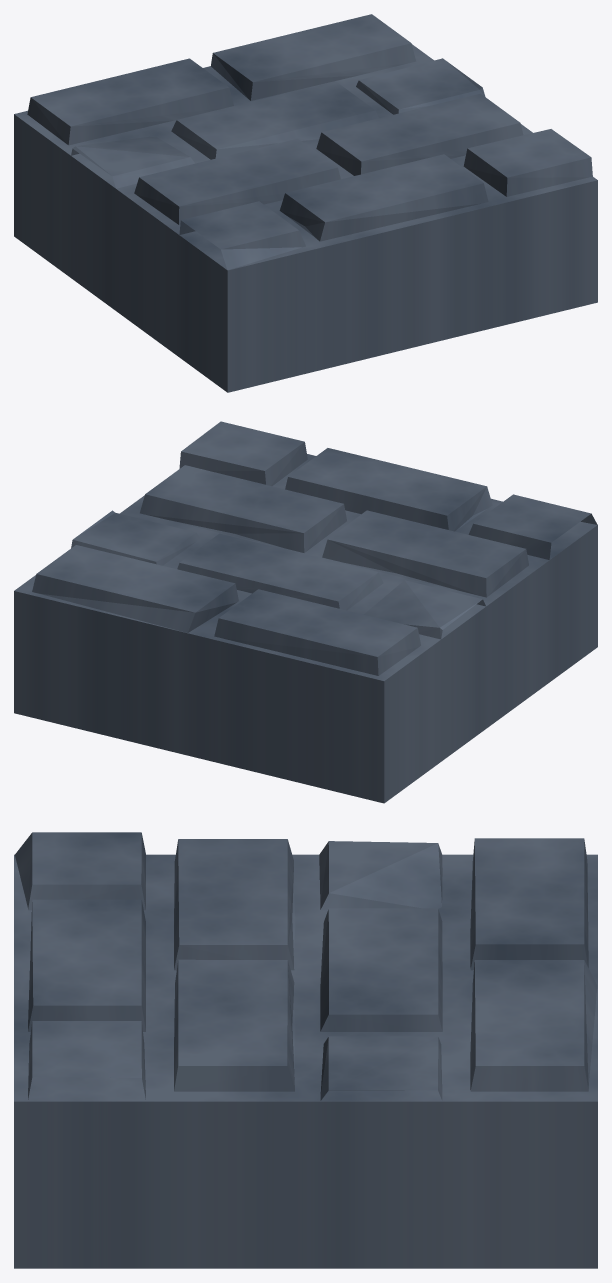
File: BricksTile3.glb
The picture shows the model from 3 angles, top to bottom: view 1: azimuth 30°, elevation 25°; view 2: azimuth 150°, elevation 25°; view 3: azimuth 270°, elevation 25°; orthographic projection. The views are drawn at different scales.
Parts seen in each view (by area): view 1: BricksTile3; view 2: BricksTile3; view 3: BricksTile3.
Boxes of the visible parts, left/top/right/bottom form: BricksTile3: left=14, top=14, right=597, bottom=392; BricksTile3: left=14, top=421, right=597, bottom=803; BricksTile3: left=14, top=832, right=597, bottom=1268.
Bounding box in the file's own units: 2 × 0.7248 × 2.
Materials: 1 (1 with a texture image).
